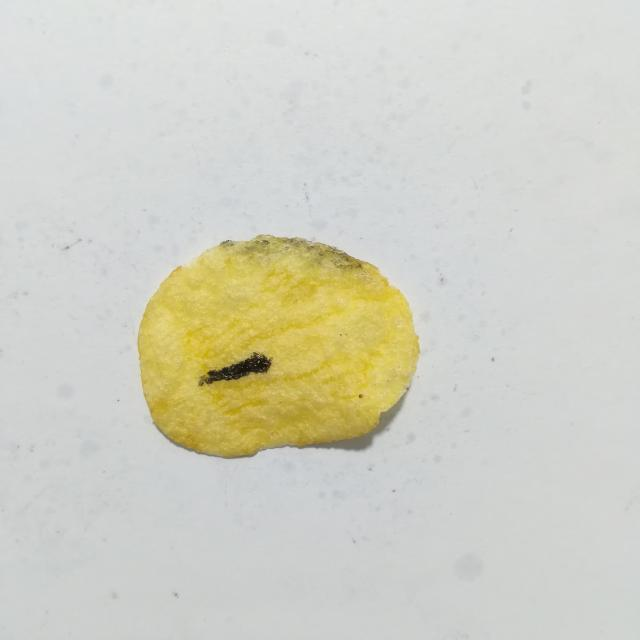chip: (138, 235, 419, 457)
damaged: (199, 352, 272, 386)
semi-damaged: (218, 236, 362, 270)
